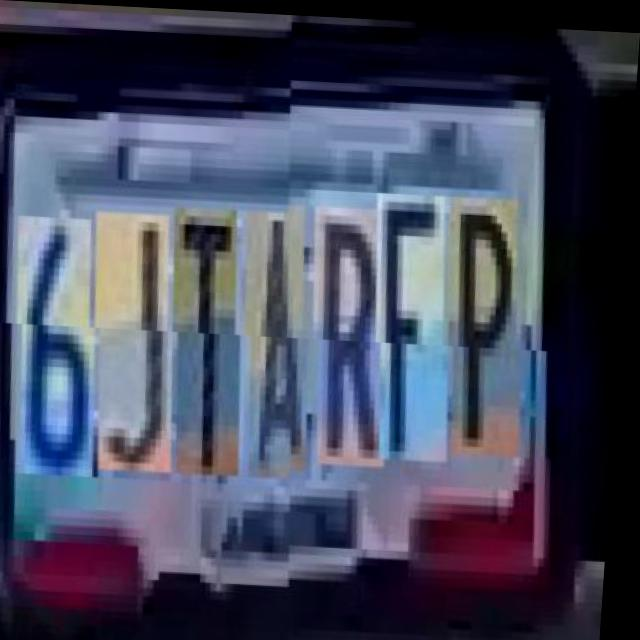6: (10, 215, 108, 475)
a: (238, 209, 321, 476)
f: (368, 196, 461, 465)
j: (88, 211, 185, 469)
p: (442, 200, 534, 460)
r: (306, 211, 398, 471)
t: (165, 206, 253, 474)
